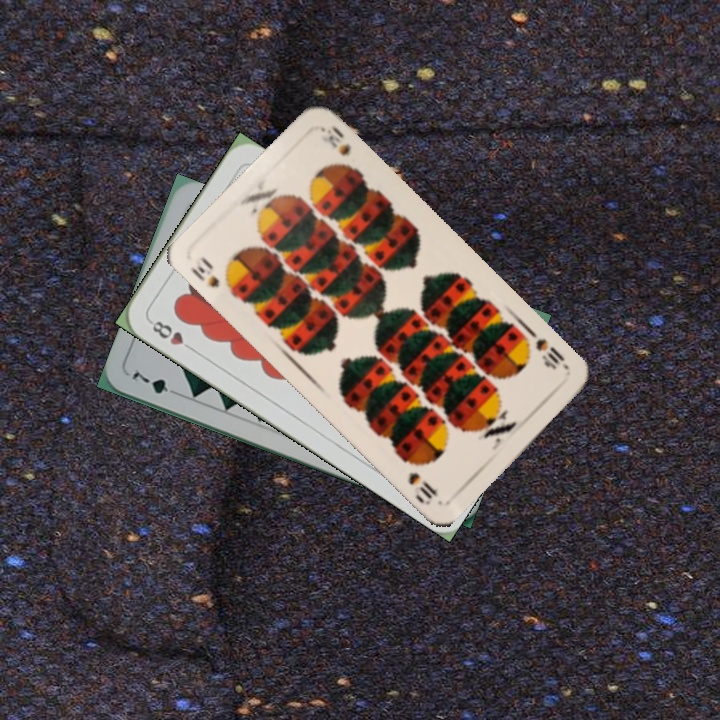G7: (128, 366, 183, 399)
H8: (145, 316, 198, 354)
S10: (186, 252, 237, 298), (531, 334, 572, 373)
